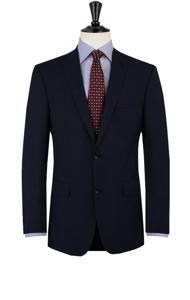F_M_suit jacket: (15, 50, 172, 249)
F_tie: (88, 51, 106, 131)
